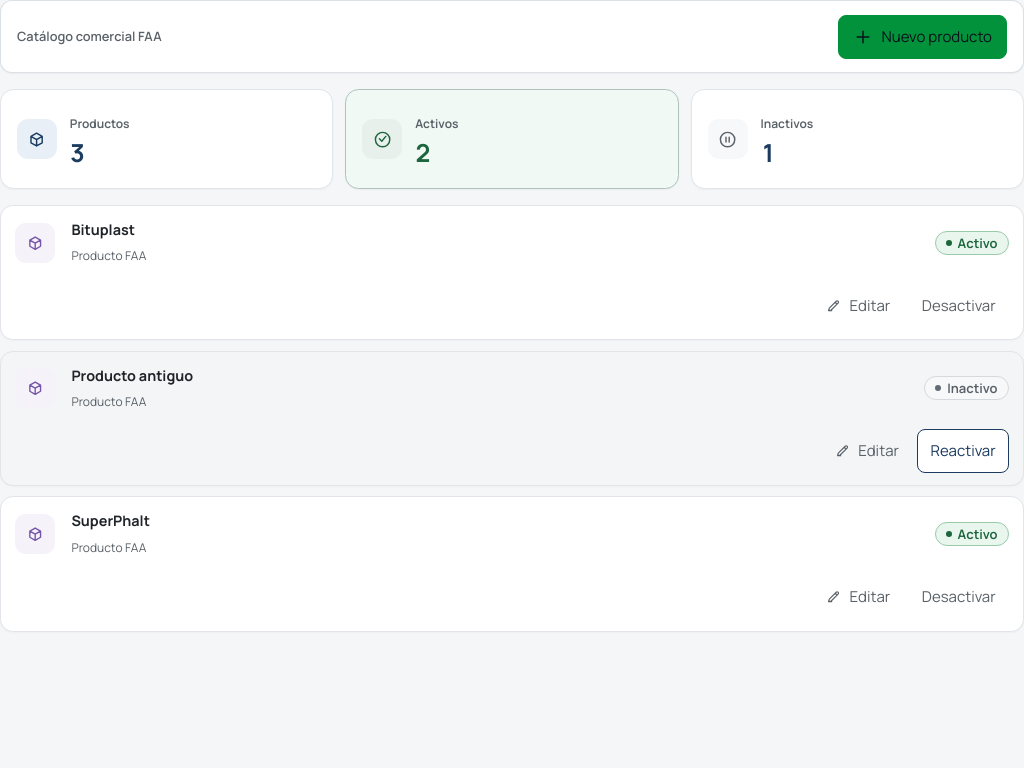
Test: ProductsPage › reactivates an inactive product directly
The image size is (1024, 768).
Expected: the text "Producto antiguo" is shown, [71,366,193,385]
Step 1. Click the button with aria-label "Reactivar Producto antiguo" → point(963, 451), box [918,429,1009,473]
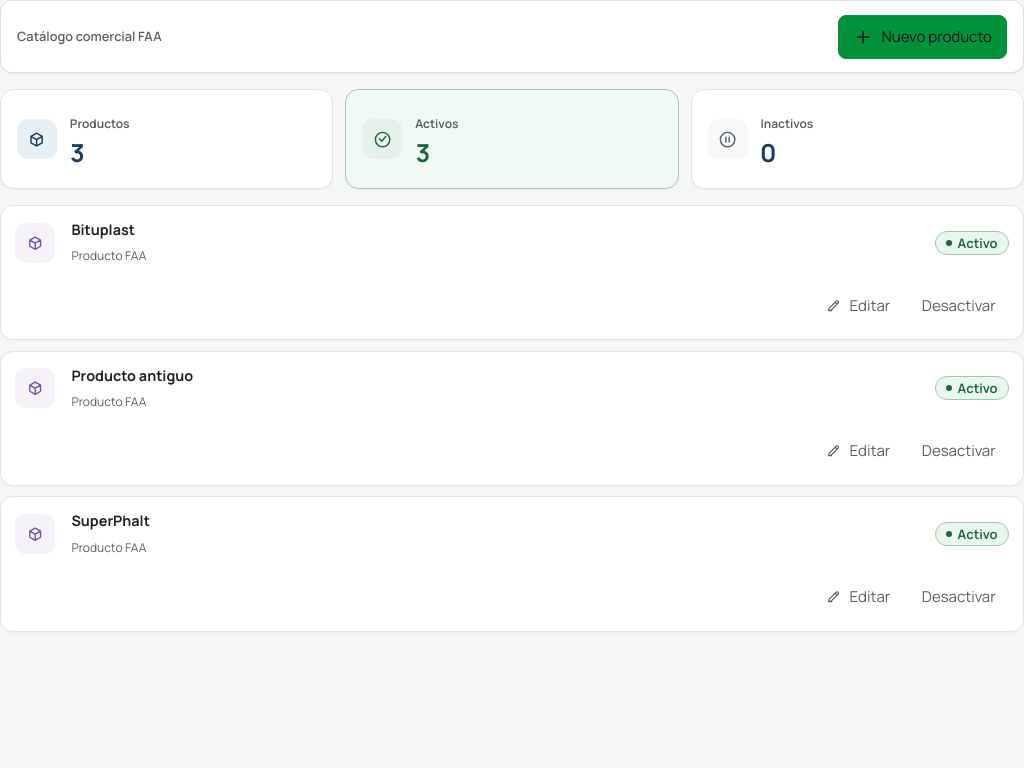
Expected: the button with aria-label "Desactivar Producto antiguo" is shown, [909,429,1009,473]
